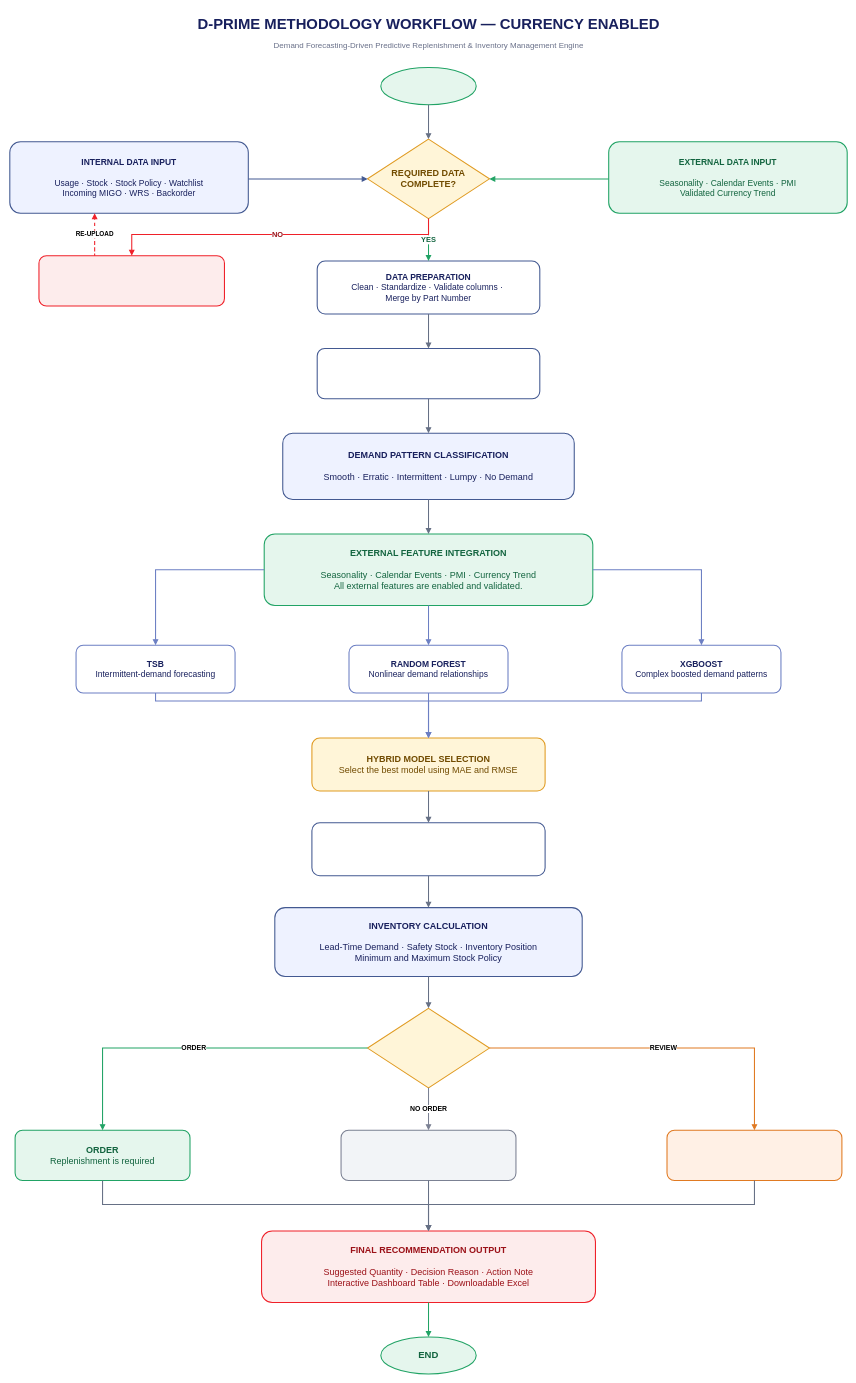
Some shapes in this 856 by 1383 pixel diagram are drawn without their labels. Each missing label, with the centre of its shape:
DECISION RULES: the point at 428,1048
DEMAND ANALYSIS Calculate ADI and CV²: the point at 428,373
FORECAST DEMAND Generate the next-period demand estimate: the point at 428,849
NO ORDER Current inventory is sufficient: the point at 428,1155
REVIEW REQUIRED Manual verification is needed: the point at 754,1155
START: the point at 428,86
UPDATE MISSING FILES Upload or replace the required input: the point at 131,280
